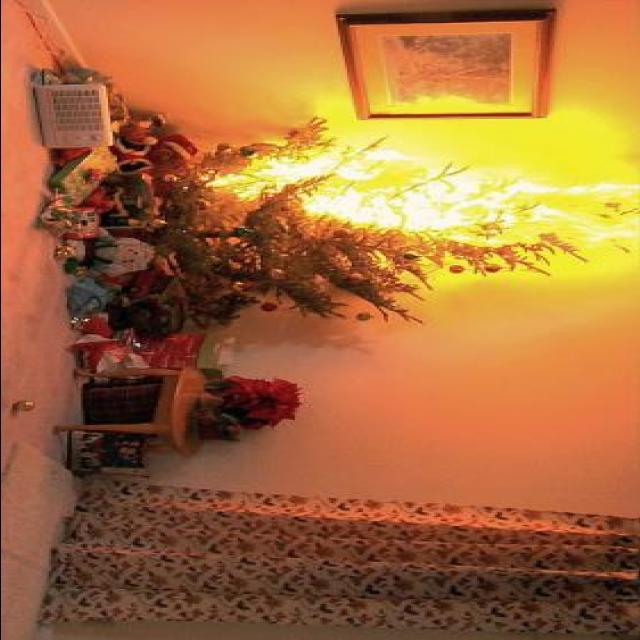Fire: (212, 146, 640, 238)
